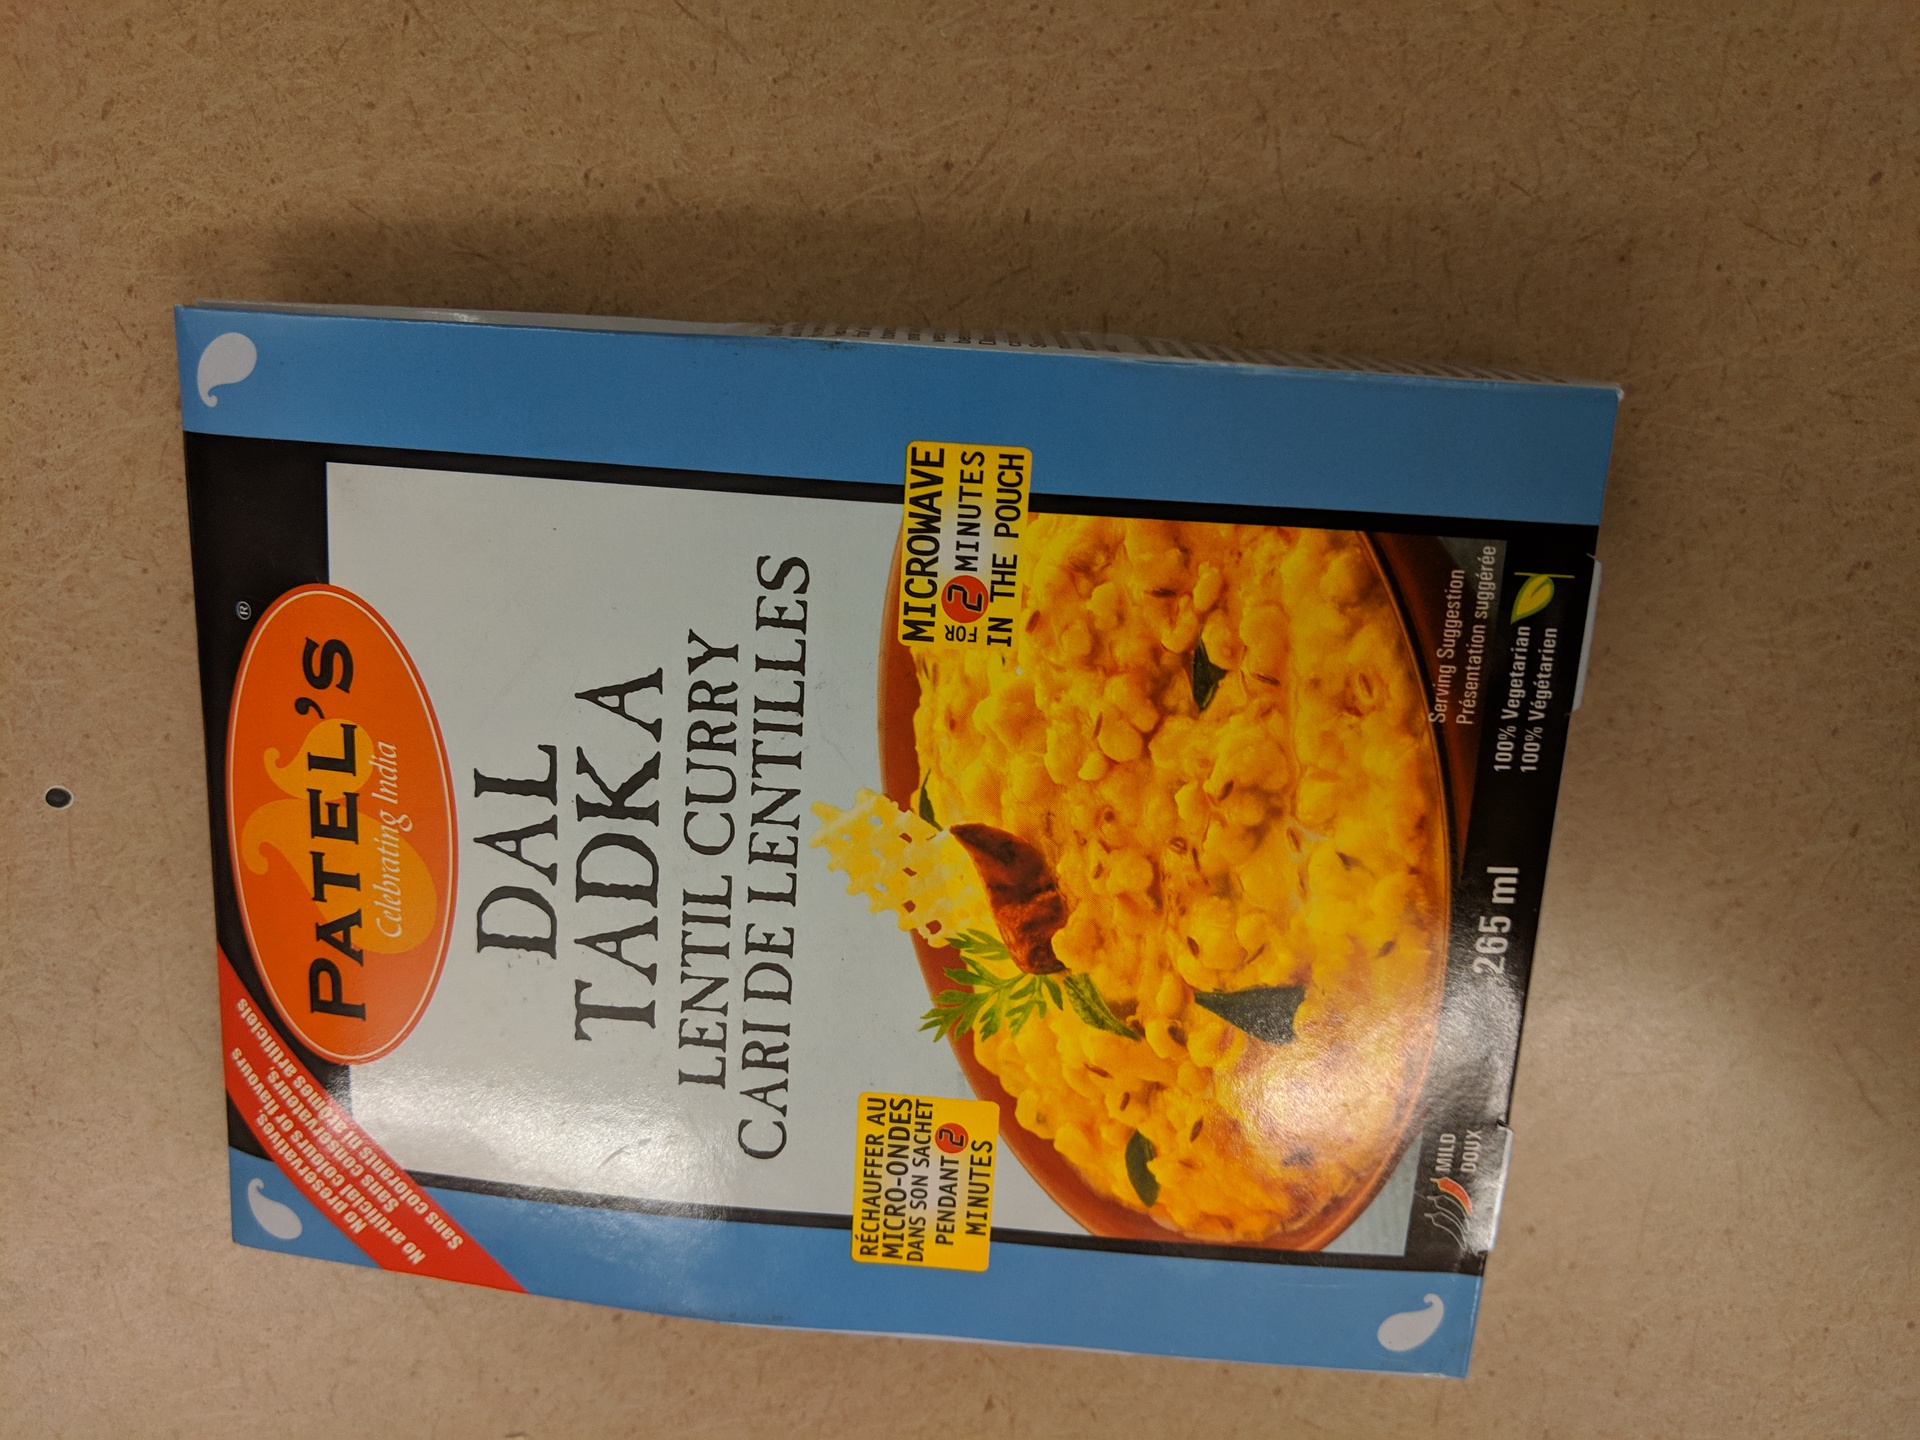patels_dal_tadka_lentil_curry: (159, 287, 1627, 1398)
